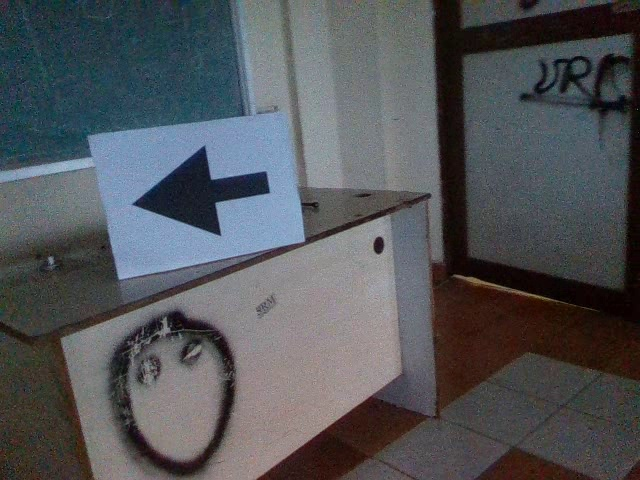Left: (123, 142, 272, 239)
